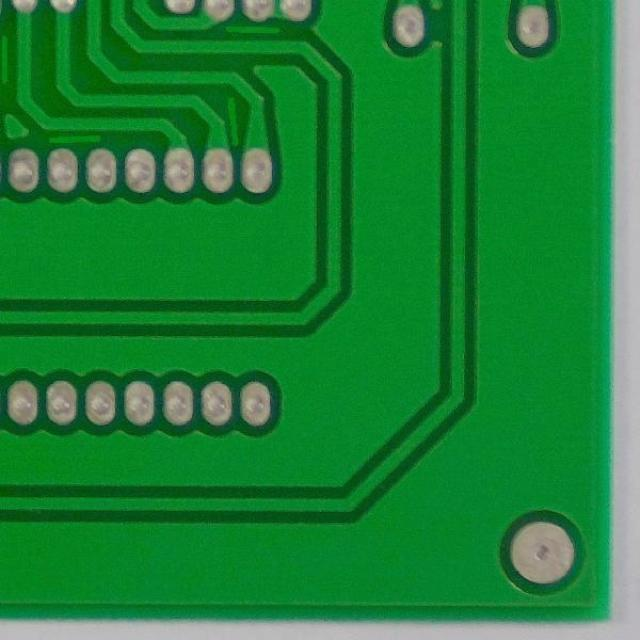Spurious_Cooper: (222, 92, 244, 150), (44, 131, 108, 147), (222, 22, 286, 38), (0, 30, 16, 88)
